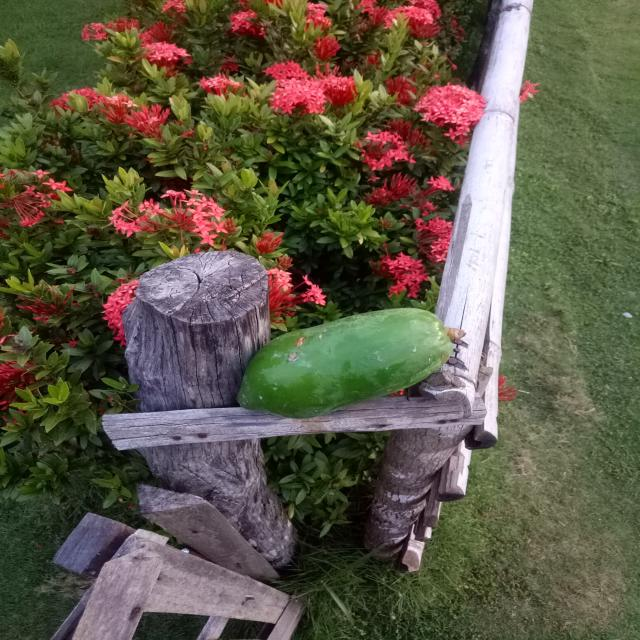Pepaya unrippen: (228, 308, 466, 413)
